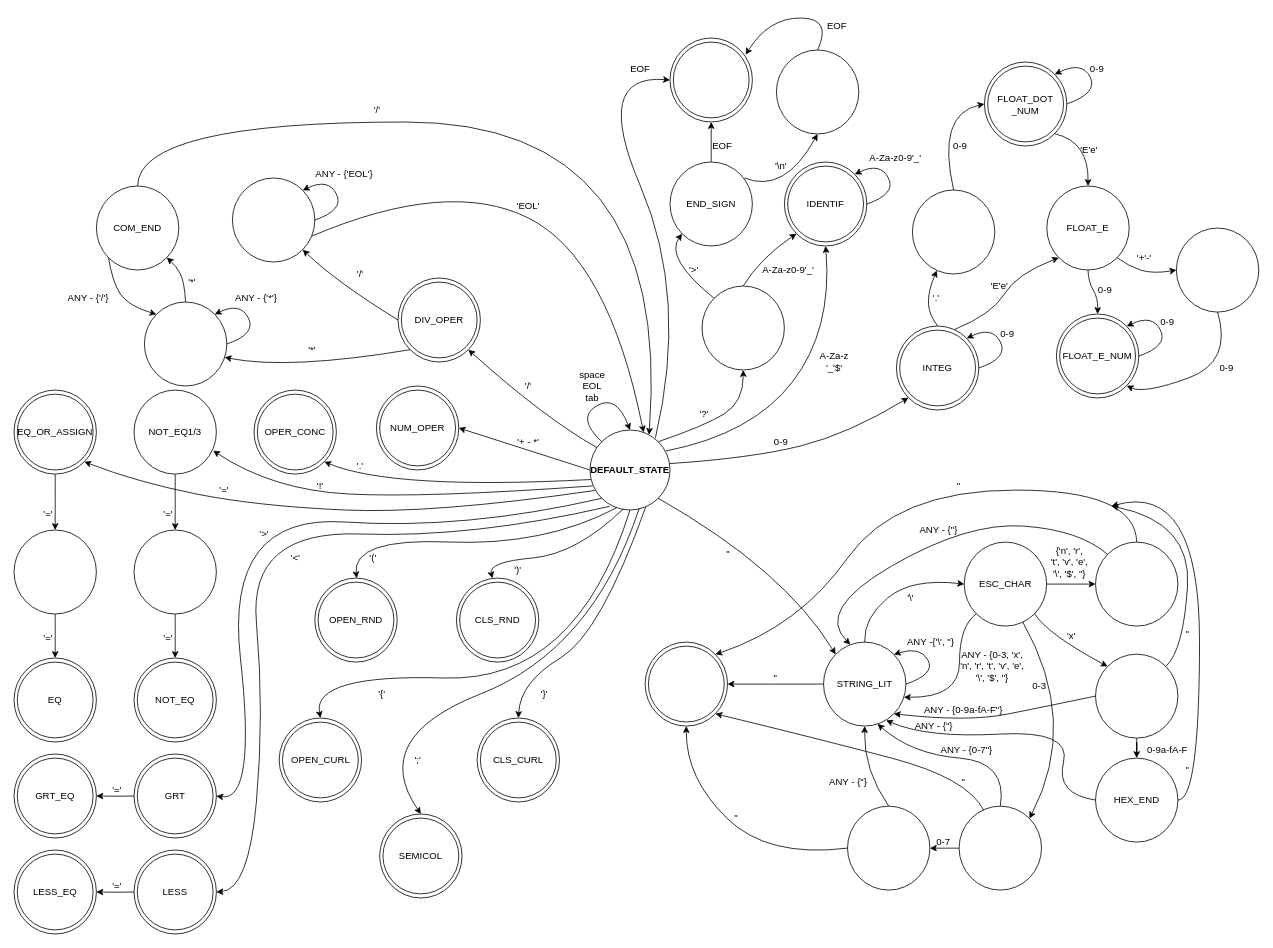
The diagram is 1273 pixels wide and 948 high, and some of its shapes have lost their labels. Here are the shapes that lost their labels. From the top down, the centre of each, then its label:
the point at 710,79: END_PRG
the point at 817,91: EXPECT_EOF
the point at 273,219: COM_ONELINE
the point at 953,231: FLOAT_DOT
the point at 1217,269: FLOAT_E_SIGN
the point at 185,343: COM_BLOCK
the point at 742,327: ID_OR_END
the point at 54,571: EQ2/3
the point at 174,571: NOT_EQ2/3
the point at 1136,583: ESC_SEQ
the point at 686,683: STRING _LIT_END
the point at 1136,695: HEX_START
the point at 888,847: OCT_MID
the point at 1000,847: OCT_START
